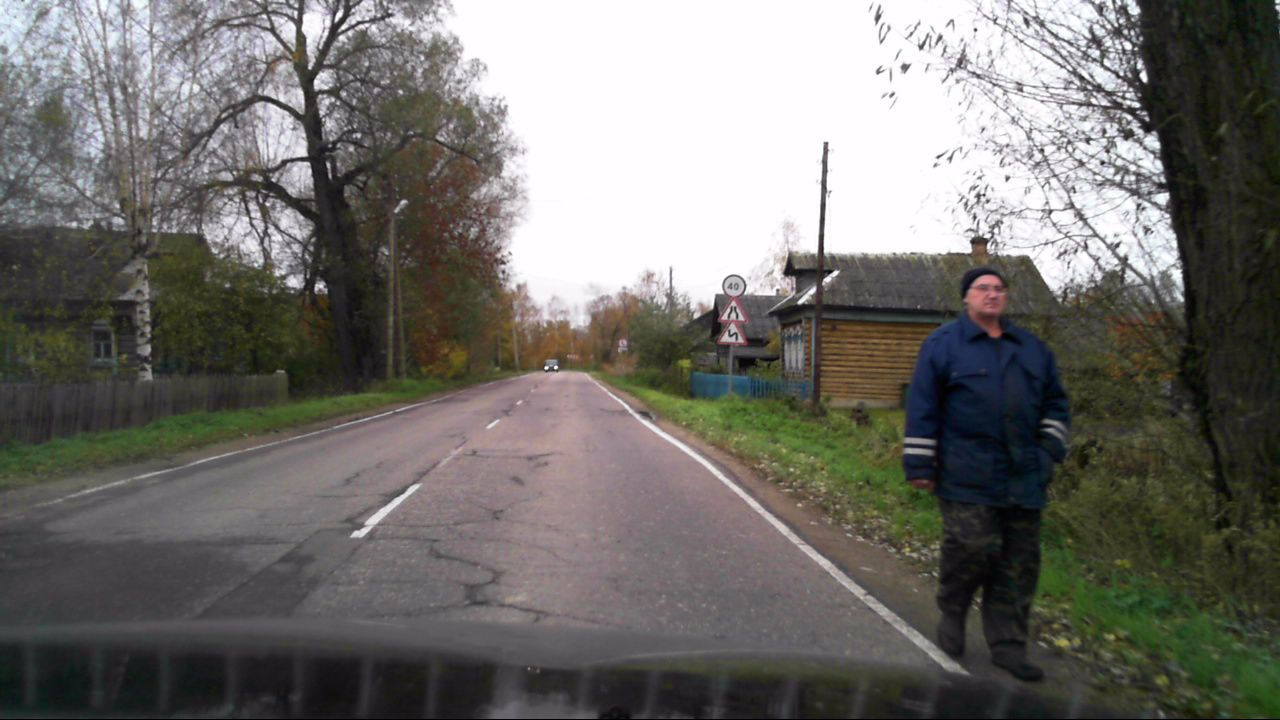speed_warning_40: (722, 273, 747, 298)
